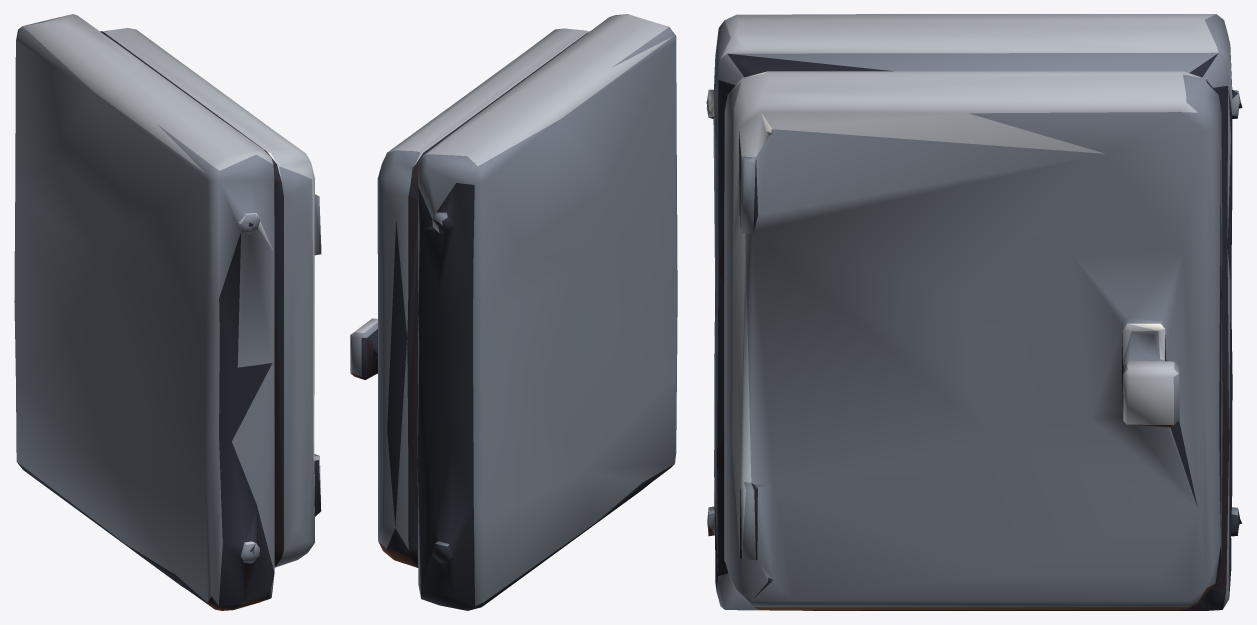
File: SM_breaker_box.glb
3 views of the same model, side by side, from view 1: azimuth 30°, elevation 25°; view 2: azimuth 150°, elevation 25°; view 3: azimuth 270°, elevation 25° (orthographic). The views are drawn at different scales.
Visible parts, largest first — view 1: SM_breaker_box; view 2: SM_breaker_box; view 3: SM_breaker_box.
Part boxes in pixels (x1,y1,x2,y2): SM_breaker_box: (14,14,321,610); SM_breaker_box: (350,14,677,610); SM_breaker_box: (706,14,1242,610).
Bounding box in the file's own units: 0.16 × 0.45 × 0.383.
Materials: 1 (1 with a texture image).
